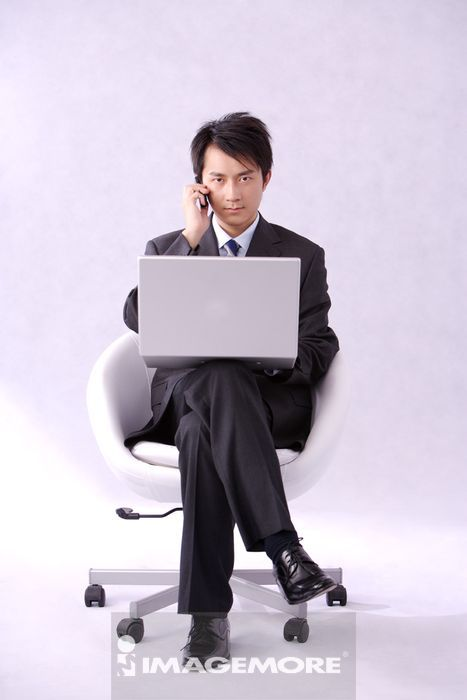talk: (184, 169, 258, 234)
